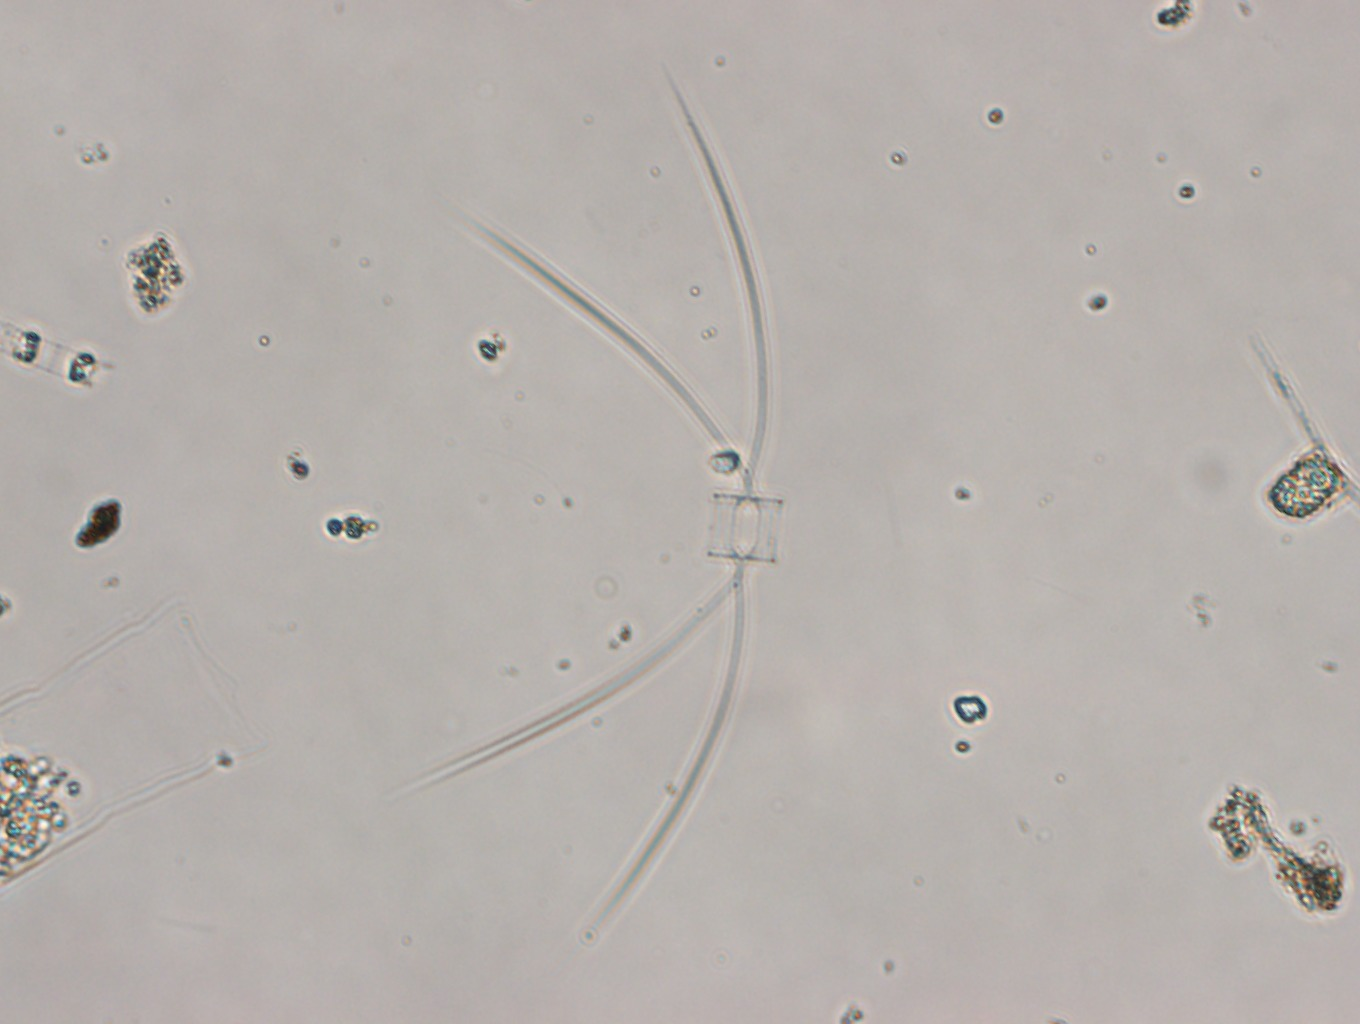chaetoceros: (399, 57, 785, 935)
